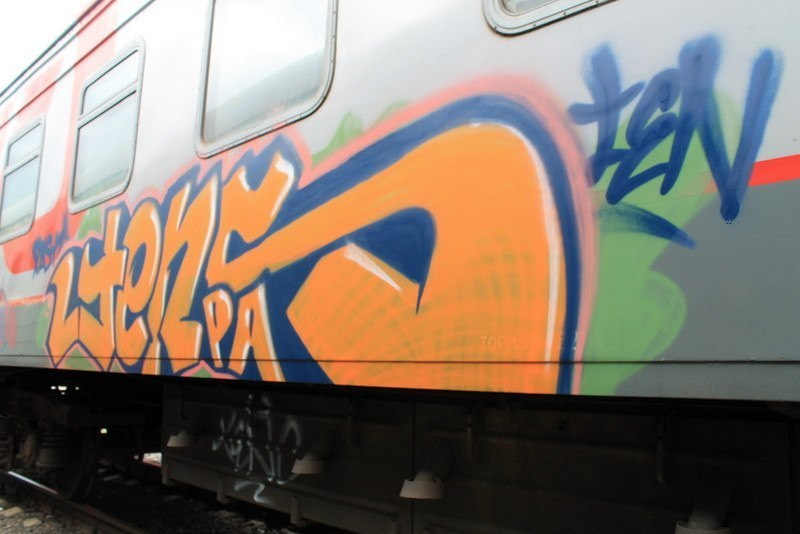graffity: (26, 82, 589, 395), (564, 27, 780, 243)
